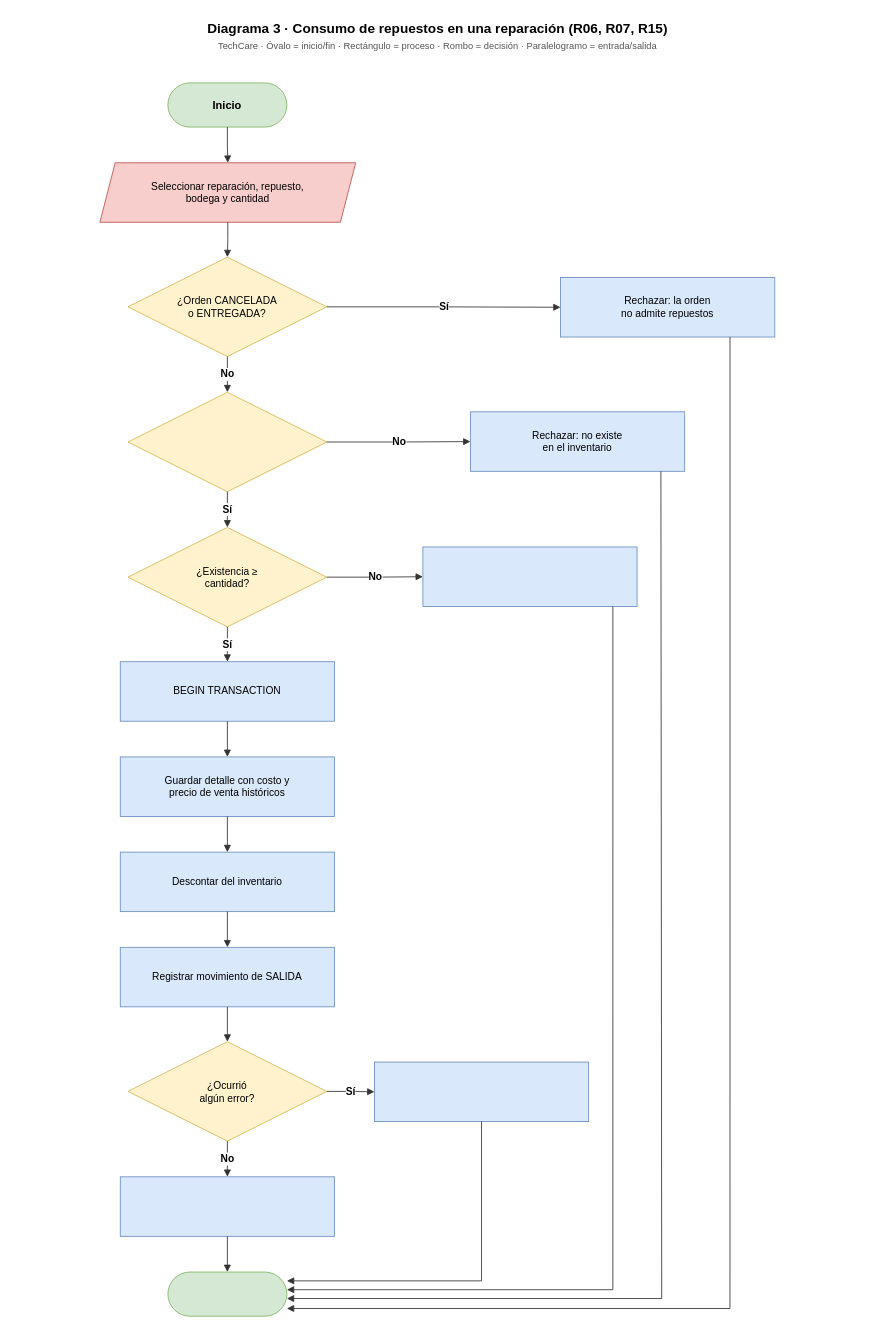
The diagram is 874 pixels wide and 1331 high, and some of its shapes have lost their labels. The shapes that lost their labels are listed below. From the top down, each one's centre as x and y in pixels, then its label:
[227,441]: ¿El repuesto existe en esa bodega?
[529,576]: Rechazar: stock insuficiente
[481,1091]: ROLLBACK (no queda nada aplicado)
[226,1206]: COMMIT
[227,1293]: Fin
